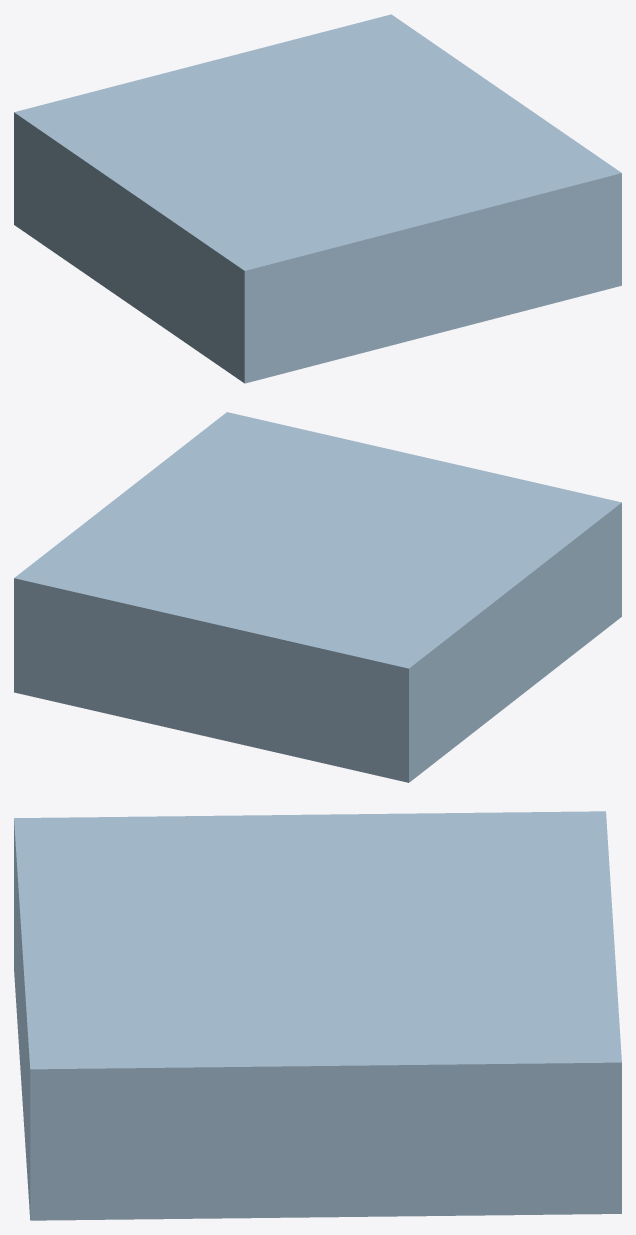
File: osm_way_223859820.glb
3 views of the same model, one above another, from view 1: azimuth 30°, elevation 25°; view 2: azimuth 150°, elevation 25°; view 3: azimuth 270°, elevation 25° (orthographic). The views are drawn at different scales.
Parts seen in each view (by area): view 1: osm_way_223859820; view 2: osm_way_223859820; view 3: osm_way_223859820.
Boxes of the visible parts, x1,y1,x2,y2 form: osm_way_223859820: (14, 14, 621, 383); osm_way_223859820: (14, 412, 621, 782); osm_way_223859820: (14, 811, 621, 1220).
Bounding box in the file's own units: 27.8 × 7.6 × 27.68.
